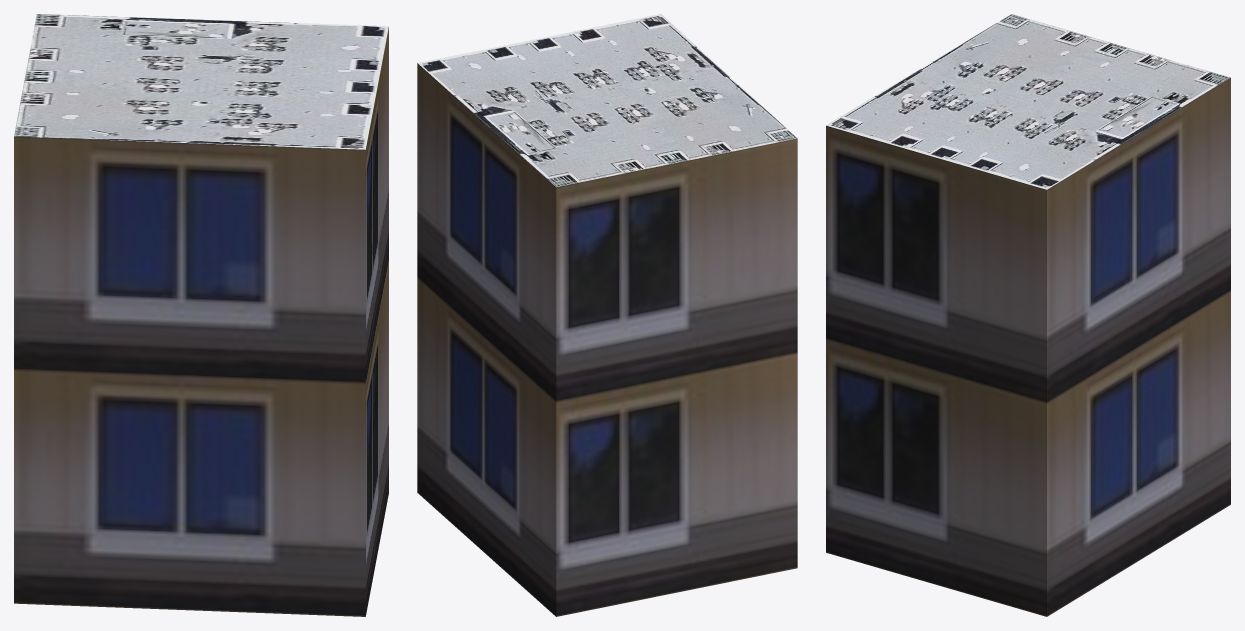
The model's file is ResTex__2026.fbx.
The picture shows the model from 3 angles, left to right: view 1: azimuth 30°, elevation 25°; view 2: azimuth 150°, elevation 25°; view 3: azimuth 270°, elevation 25°; orthographic projection. The views are drawn at different scales.
Parts seen in each view (by area): view 1: CityEngineMaterial_5_m, CityEngineMaterial_4_m; view 2: CityEngineMaterial_5_m, CityEngineMaterial_4_m; view 3: CityEngineMaterial_5_m, CityEngineMaterial_4_m.
Part boxes in pixels (bbox=[...]): CityEngineMaterial_5_m: bbox=[14, 27, 388, 616]; CityEngineMaterial_4_m: bbox=[14, 14, 388, 149]; CityEngineMaterial_5_m: bbox=[417, 63, 797, 616]; CityEngineMaterial_4_m: bbox=[418, 14, 797, 187]; CityEngineMaterial_5_m: bbox=[826, 78, 1230, 616]; CityEngineMaterial_4_m: bbox=[826, 14, 1230, 189].
Bounding box in the file's own units: 5.3 × 6 × 5.16.
2 materials, 2 textured.
